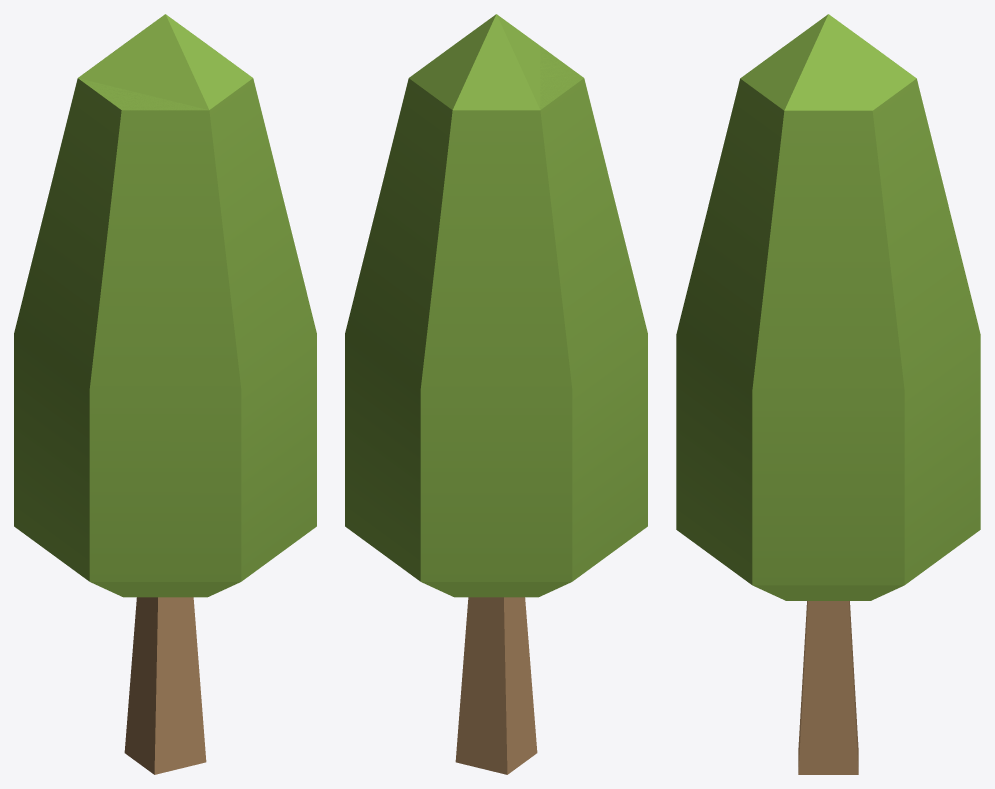
File: tree-2.obj
The picture shows the model from 3 angles, left to right: view 1: azimuth 30°, elevation 25°; view 2: azimuth 150°, elevation 25°; view 3: azimuth 270°, elevation 25°; orthographic projection.
Parts seen in each view (by area): view 1: Mesh1_Group1_Model.018; view 2: Mesh1_Group1_Model.018; view 3: Mesh1_Group1_Model.018.
Boxes of the visible parts, x1,y1,x2,y2 form: Mesh1_Group1_Model.018: (14, 14, 316, 774); Mesh1_Group1_Model.018: (345, 14, 647, 774); Mesh1_Group1_Model.018: (676, 14, 980, 774).
Size of the model in its own units: 0.8086 by 2.53 by 0.9337.
